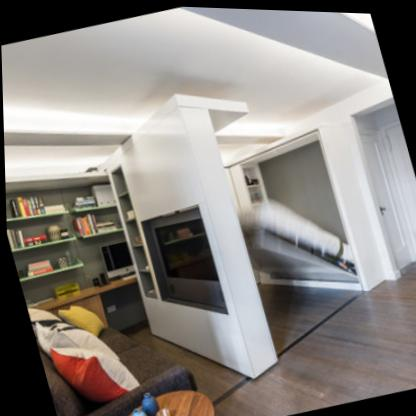Wooden floor: (209, 259, 416, 416)
